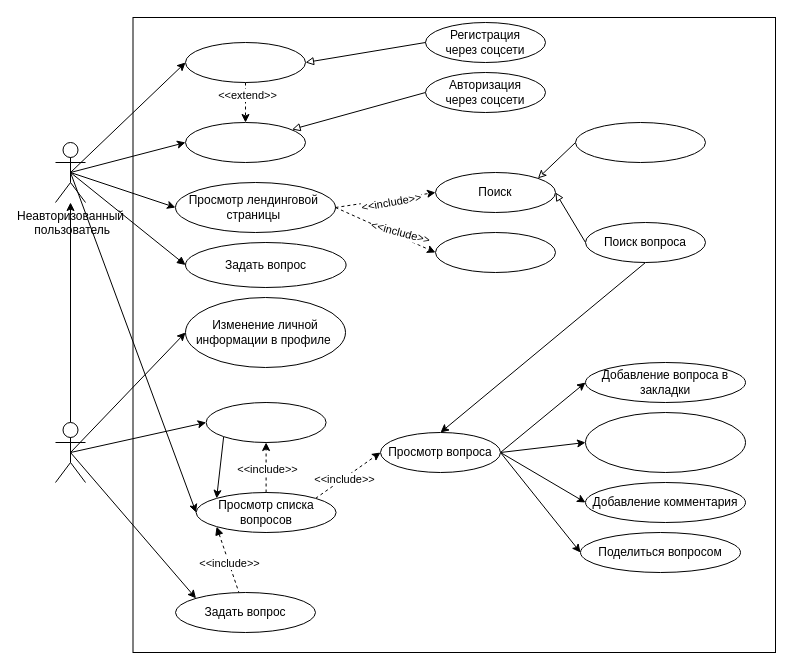
This 793x670 diagram has some shape labels left out. The shapes that lost their labels are listed below. From the top down, each one's centre as x and y in pixels, then its label:
At point (245, 62): "Регистрация".
At point (245, 142): "Авторизация".
At point (640, 142): "Поиск пользователя".
At point (495, 252): "Просмотр Teams".
At point (265, 422): "Просмотр тегов".
At point (665, 442): "Подписаться на обновления этого вопроса".
At point (70, 452): "Авторизованный пользователь".
